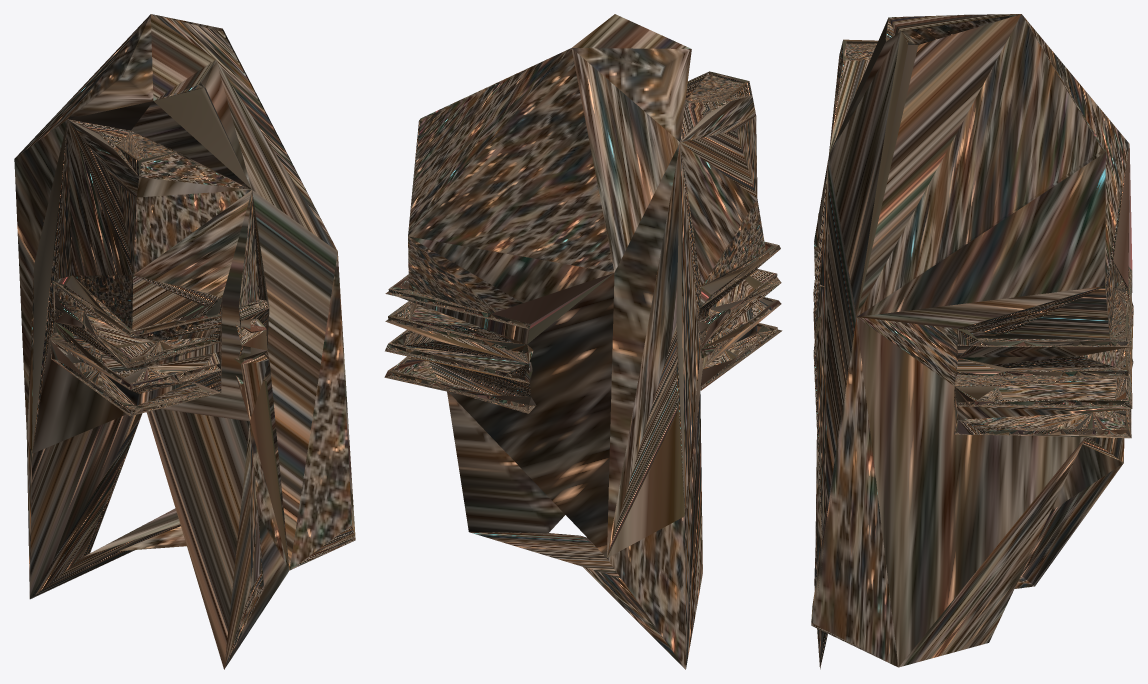
Rendered from m05_far.glb.
3 views of the same model, side by side, from view 1: azimuth 30°, elevation 25°; view 2: azimuth 150°, elevation 25°; view 3: azimuth 270°, elevation 25° (orthographic). The views are drawn at different scales.
Visible parts, largest first — view 1: m05_far; view 2: m05_far; view 3: m05_far.
Part boxes in pixels (x1,y1,x2,y2): m05_far: (14,14,355,669); m05_far: (384,14,782,669); m05_far: (811,14,1133,669).
Bounding box in the file's own units: 88.56 × 200 × 87.93.
1 material, 1 textured.
